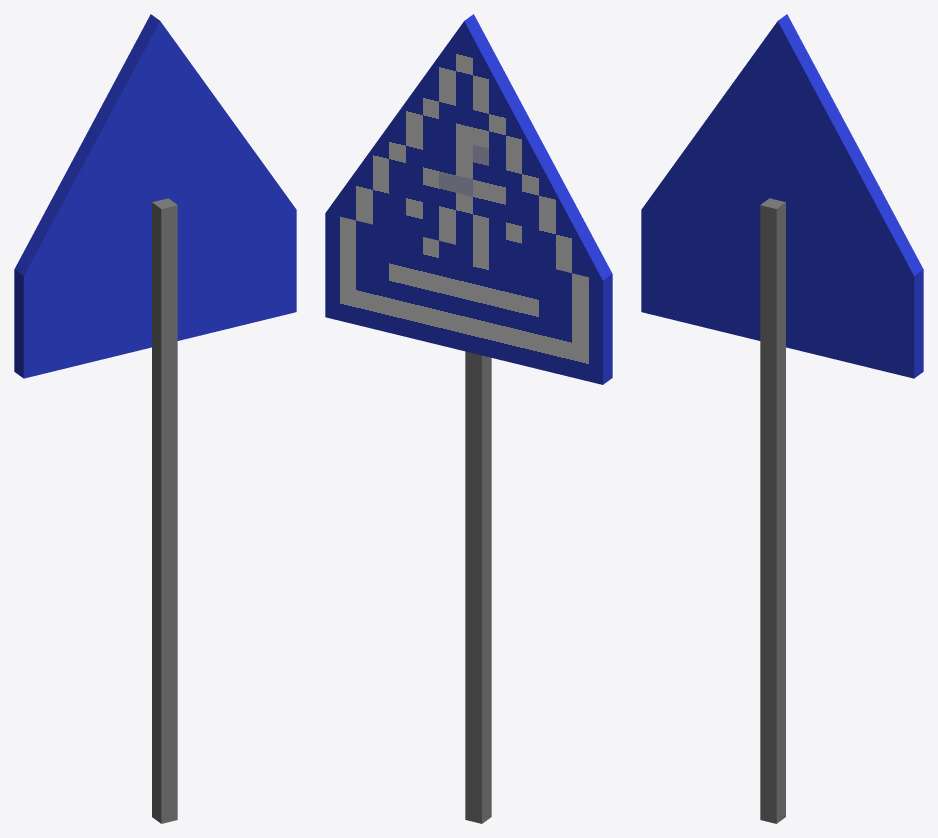
The model's file is crosswalk_sign.obj.
3 renders of one model, left to right at view 1: azimuth 30°, elevation 25°; view 2: azimuth 150°, elevation 25°; view 3: azimuth 330°, elevation 25°, orthographic.
Visible parts, largest first — view 1: cylinder, cuboid; view 2: cylinder, cuboid; view 3: cylinder, cuboid.
Part boxes in pixels (x1=…): cylinder: x1=14, y1=14, x2=296, y2=378; cuboid: x1=152, y1=198, x2=177, y2=823; cylinder: x1=325, y1=14, x2=612, y2=384; cuboid: x1=465, y1=351, x2=491, y2=823; cylinder: x1=641, y1=14, x2=923, y2=378; cuboid: x1=760, y1=198, x2=785, y2=823.
Size of the model in its own units: 1.04 by 2.91 by 0.125.
1 material, 1 textured.
